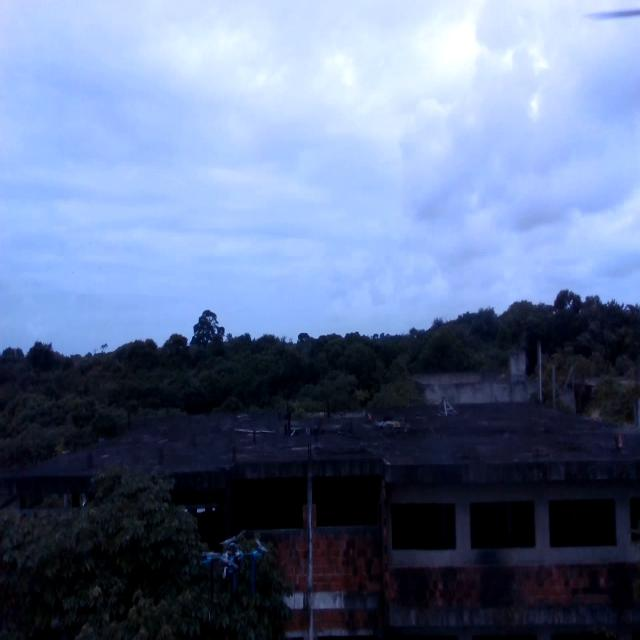-uav-: (202, 524, 270, 620)
